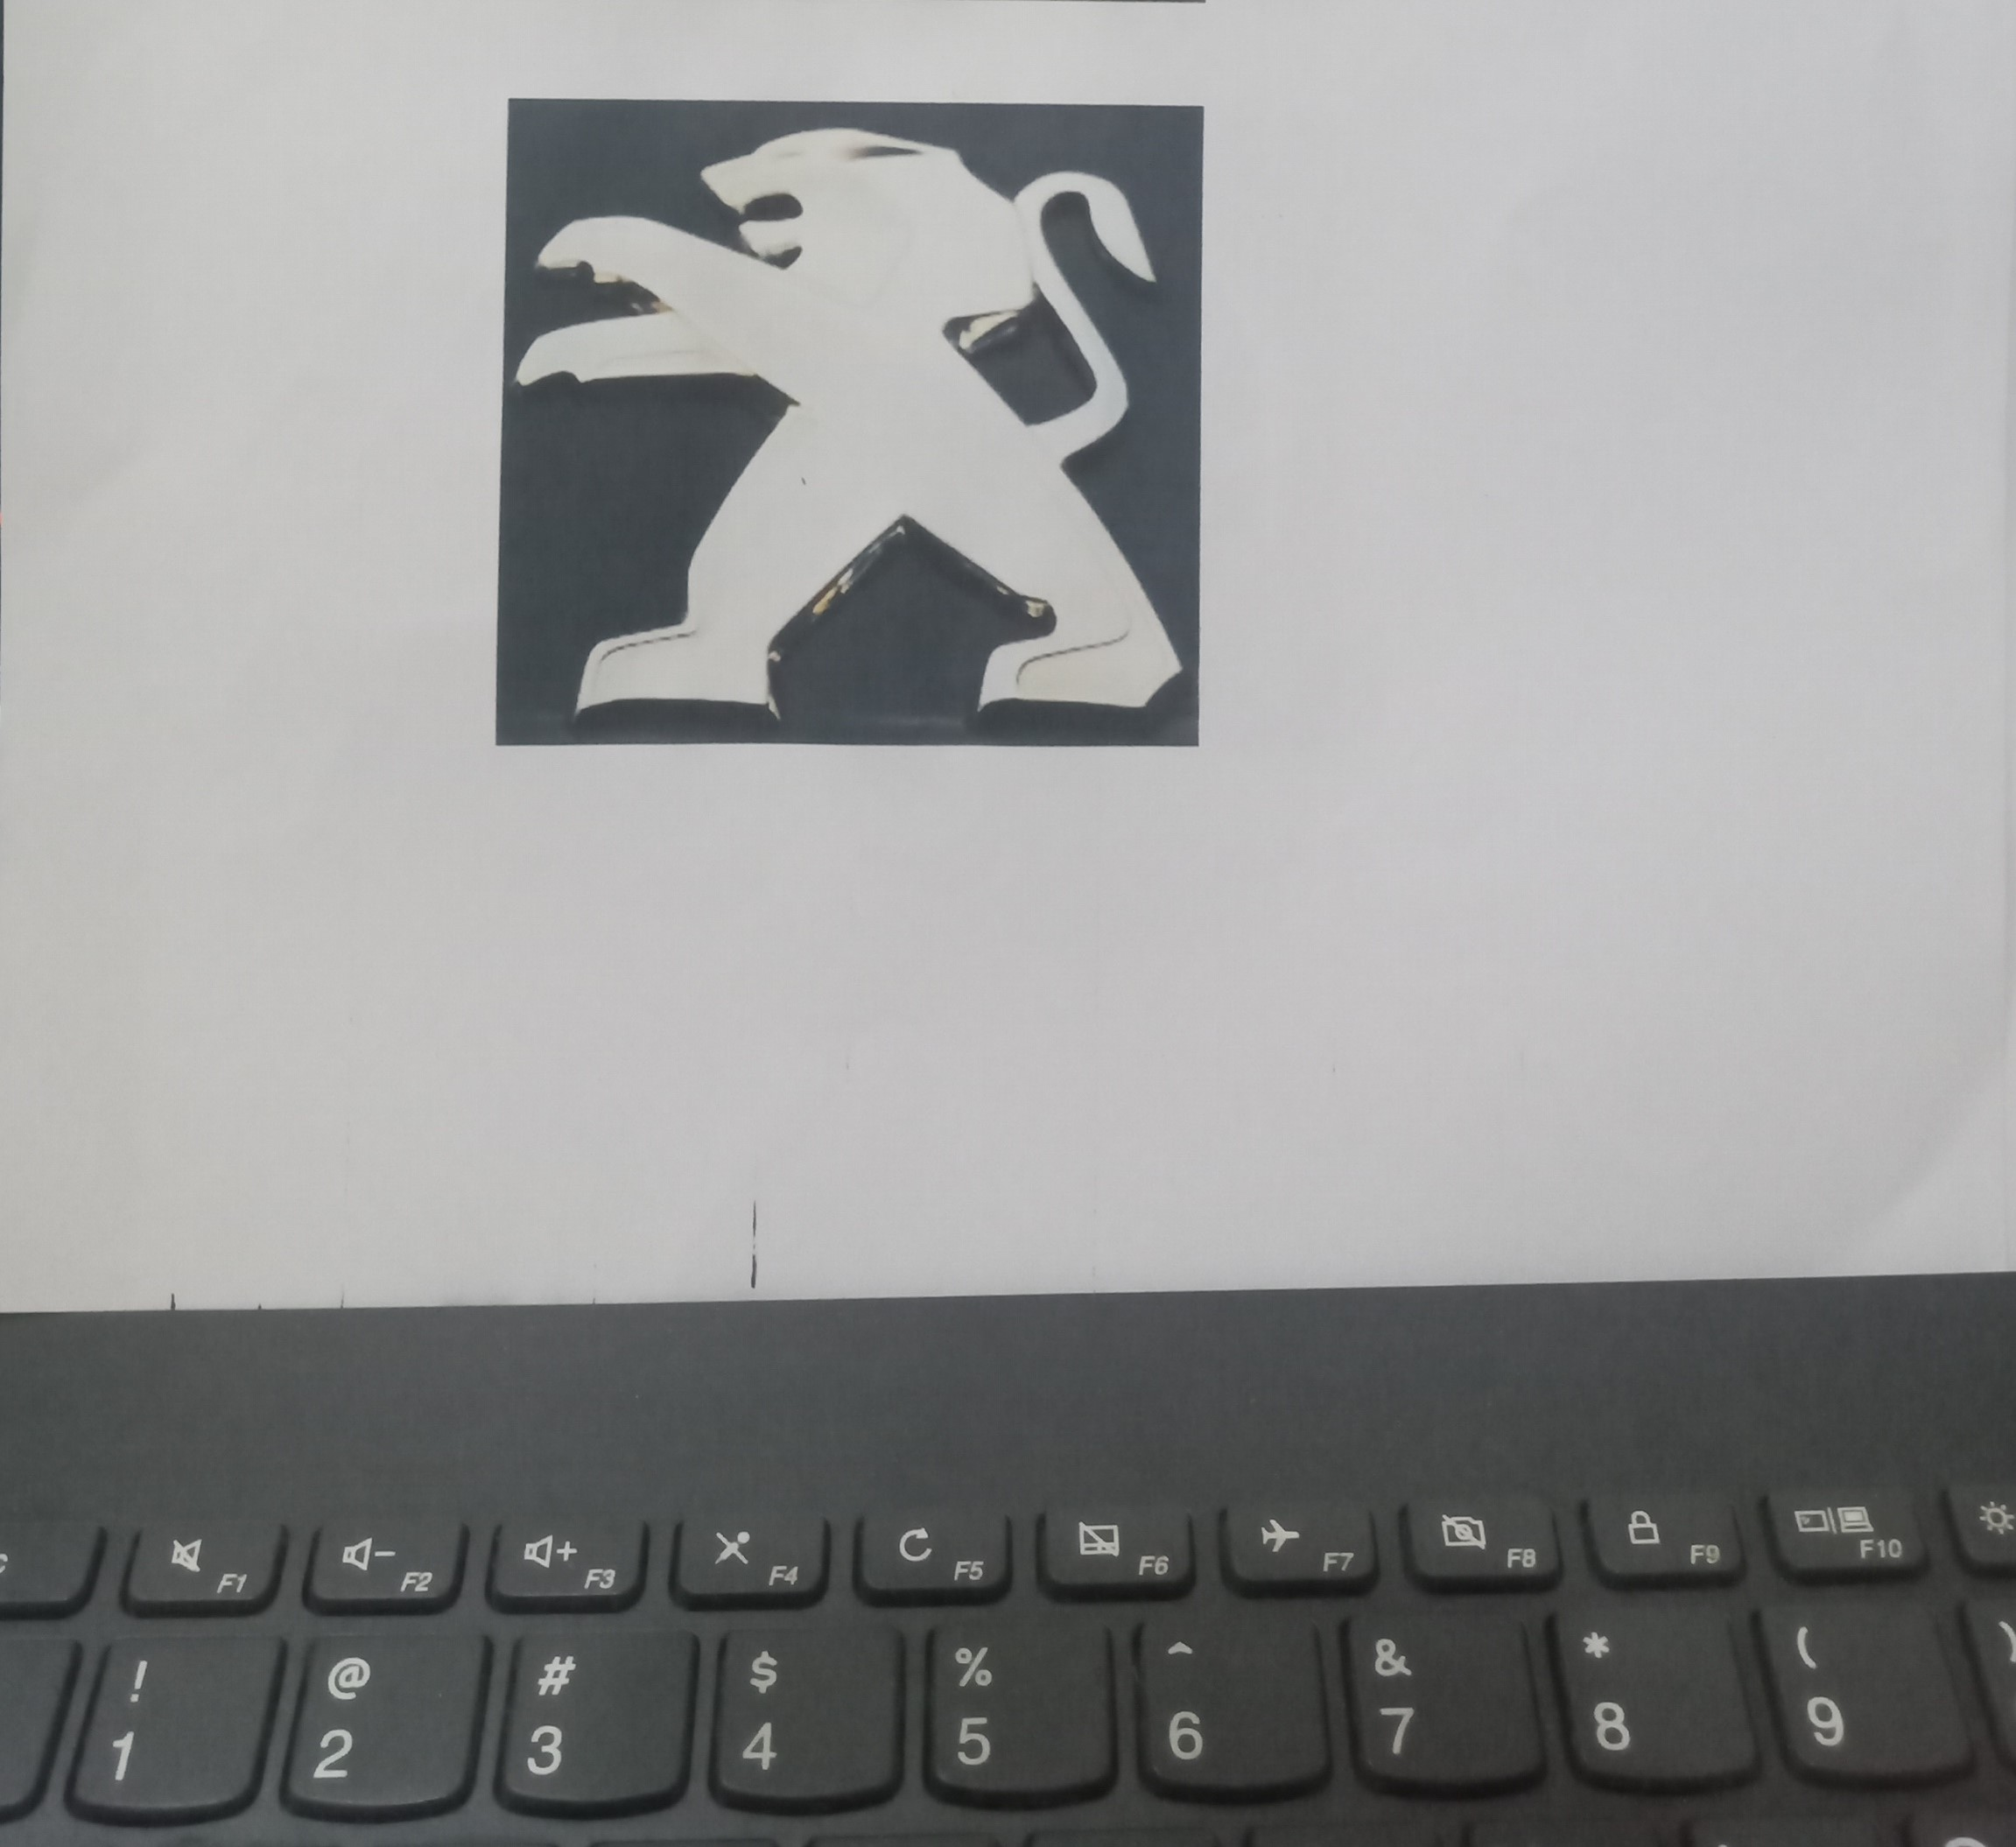Peugeot: (500, 104, 1198, 748)
